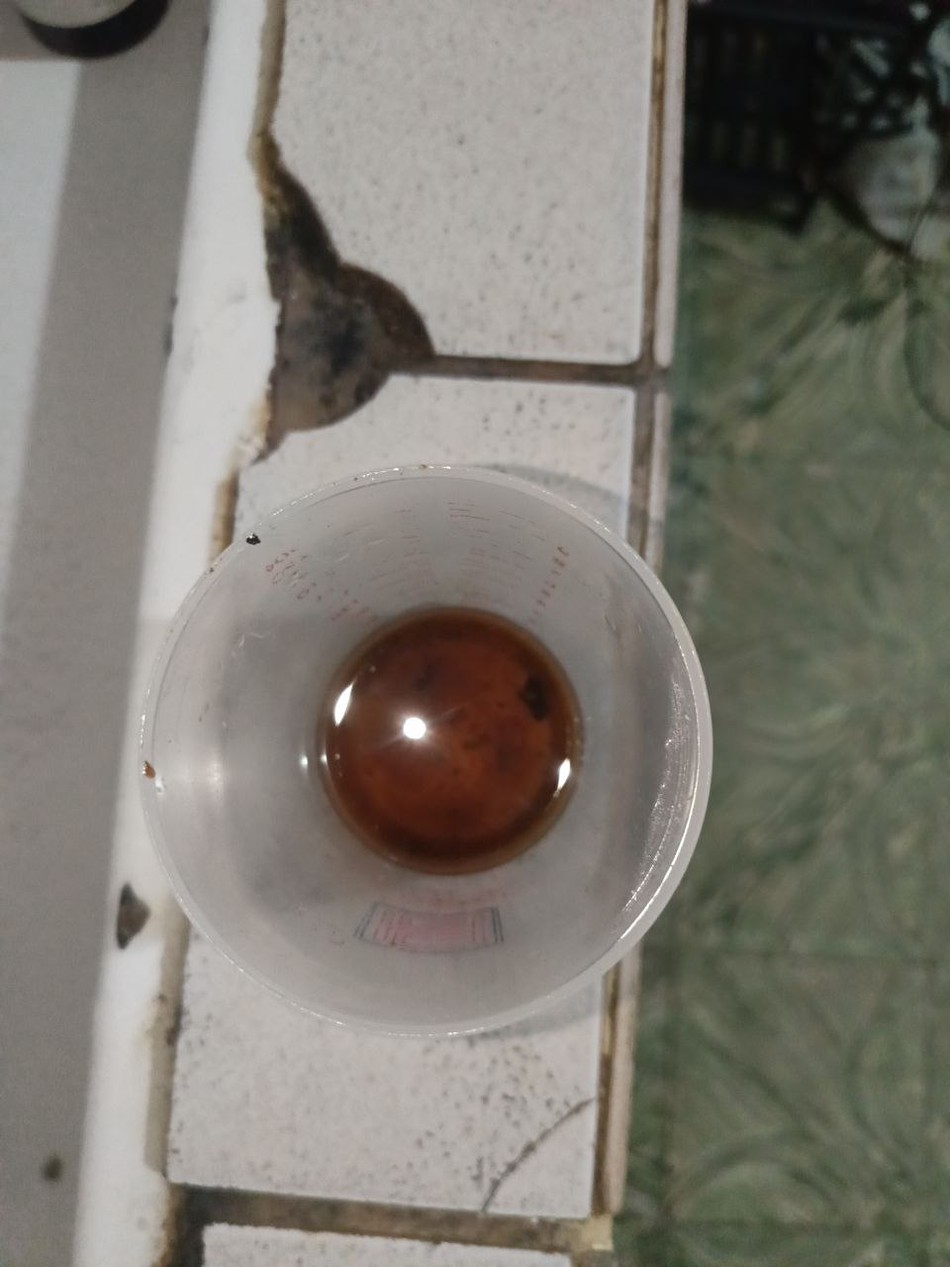non-reusable: (323, 604, 581, 874)
